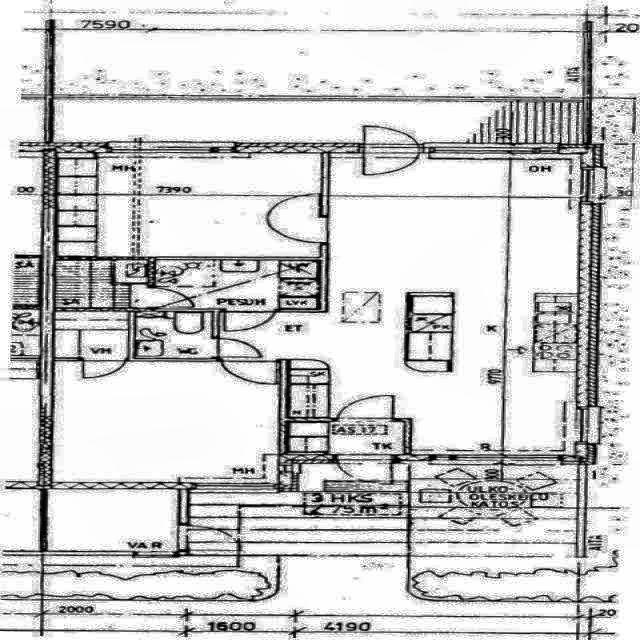room: (59, 153, 322, 257), (54, 362, 278, 483), (48, 489, 177, 551), (156, 259, 319, 308), (286, 421, 404, 455)
